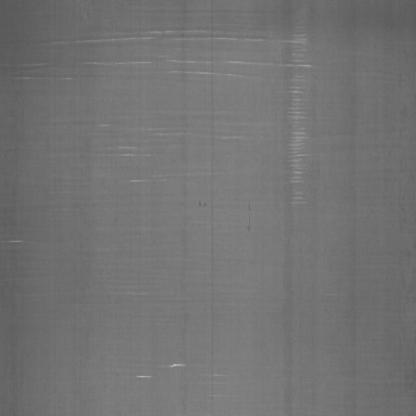waist_folding: (92, 26, 308, 338)
